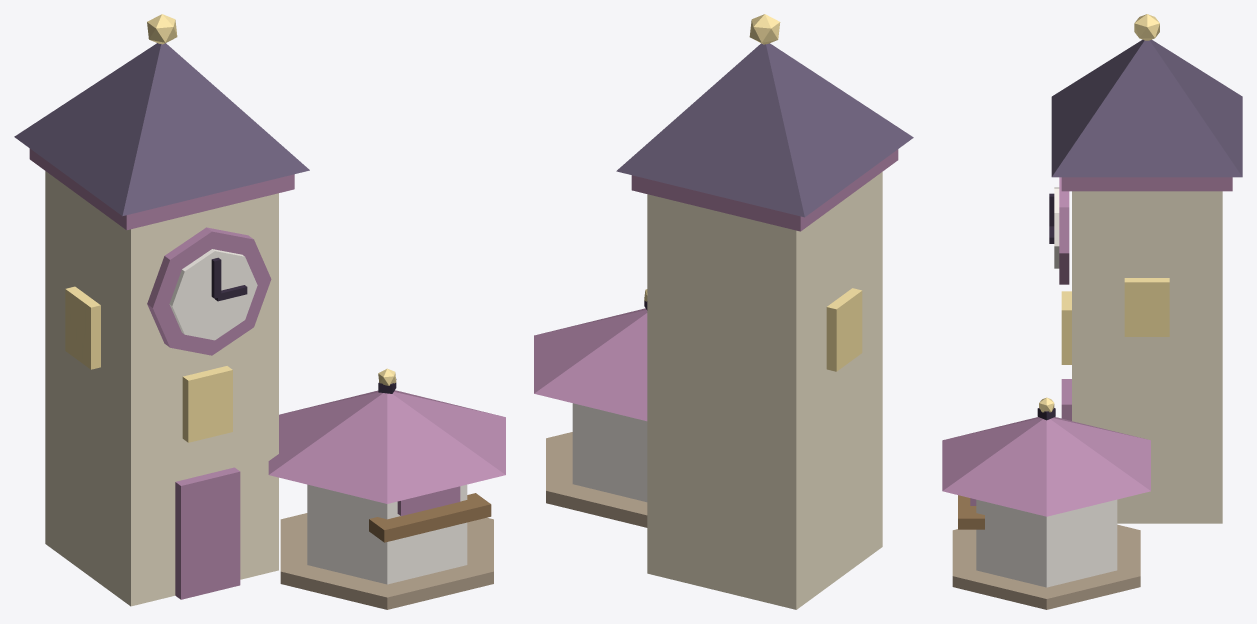
The model's file is city-landmark-s2.glb.
3 renders of one model, left to right at view 1: azimuth 30°, elevation 25°; view 2: azimuth 150°, elevation 25°; view 3: azimuth 270°, elevation 25°, orthographic. The views are drawn at different scales.
Parts seen in each view (by area): view 1: city-landmark-s2; view 2: city-landmark-s2; view 3: city-landmark-s2.
Boxes of the visible parts, x1,y1,x2,y2 form: city-landmark-s2: (14, 14, 505, 609); city-landmark-s2: (534, 14, 913, 609); city-landmark-s2: (942, 14, 1242, 609).
Size of the model in its own units: 0.77 by 1.05 by 0.5978.
